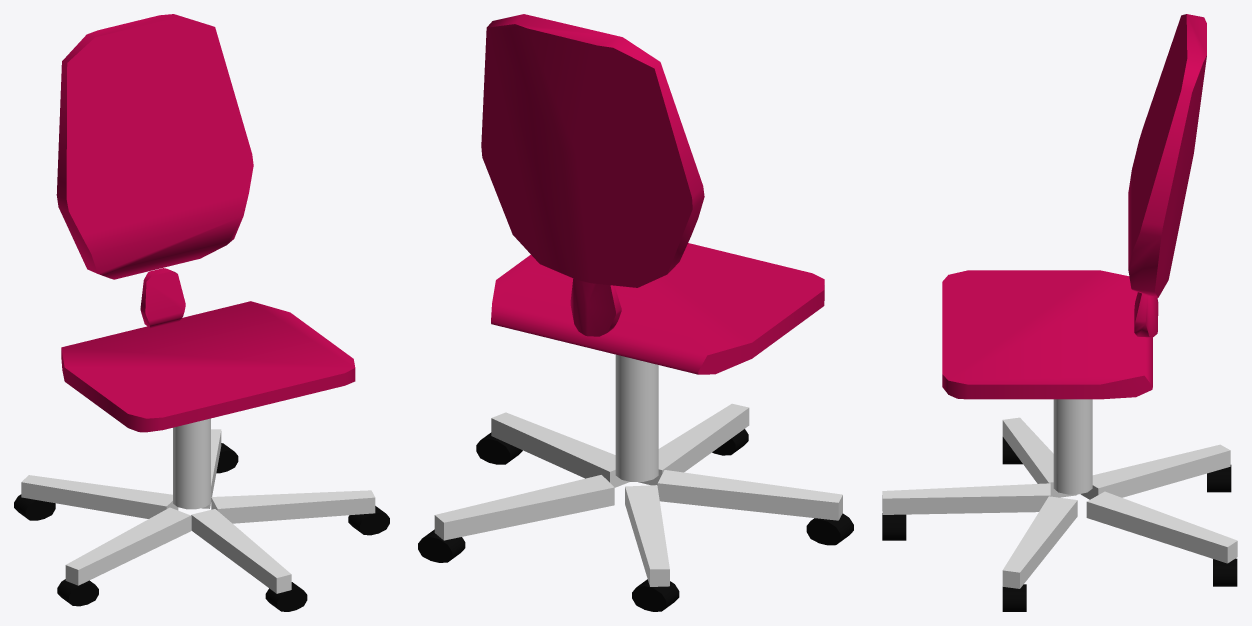
The model's file is Office Chair.glb.
The picture shows the model from 3 angles, left to right: view 1: azimuth 30°, elevation 25°; view 2: azimuth 150°, elevation 25°; view 3: azimuth 270°, elevation 25°; orthographic projection. The views are drawn at different scales.
Visible parts, largest first — view 1: mesh-back, mesh-seat, mesh-legs, mesh-wheels, mesh-center; view 2: mesh-back, mesh-seat, mesh-legs, mesh-center, mesh-wheels; view 3: mesh-seat, mesh-legs, mesh-back, mesh-center, mesh-wheels.
Boxes of the visible parts, bbox=[...] form: mesh-back: bbox=[56, 14, 253, 328]; mesh-seat: bbox=[61, 301, 355, 432]; mesh-legs: bbox=[21, 429, 375, 593]; mesh-wheels: bbox=[14, 443, 389, 611]; mesh-center: bbox=[173, 418, 210, 509]; mesh-back: bbox=[481, 14, 704, 336]; mesh-seat: bbox=[491, 243, 824, 374]; mesh-legs: bbox=[434, 403, 842, 586]; mesh-center: bbox=[615, 354, 658, 481]; mesh-wheels: bbox=[418, 429, 853, 611]; mesh-seat: bbox=[942, 270, 1152, 399]; mesh-legs: bbox=[882, 417, 1237, 588]; mesh-back: bbox=[1128, 14, 1206, 337]; mesh-center: bbox=[1053, 399, 1092, 494]; mesh-wheels: bbox=[882, 437, 1237, 611].
Size of the model in its own units: 0.64 by 0.912 by 0.591.
